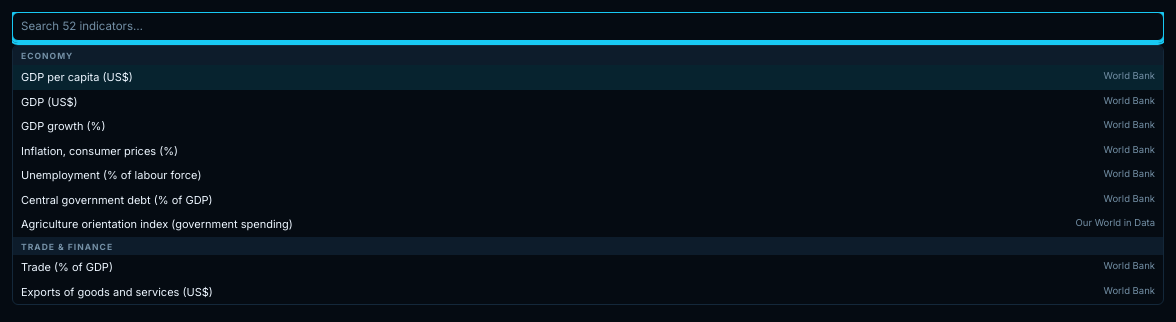
Test: IndicatorPicker › leaves out the excluded indicator and says when nothing matches
Type "qwerty" into the field at (588, 27), box [12,12,1164,41]
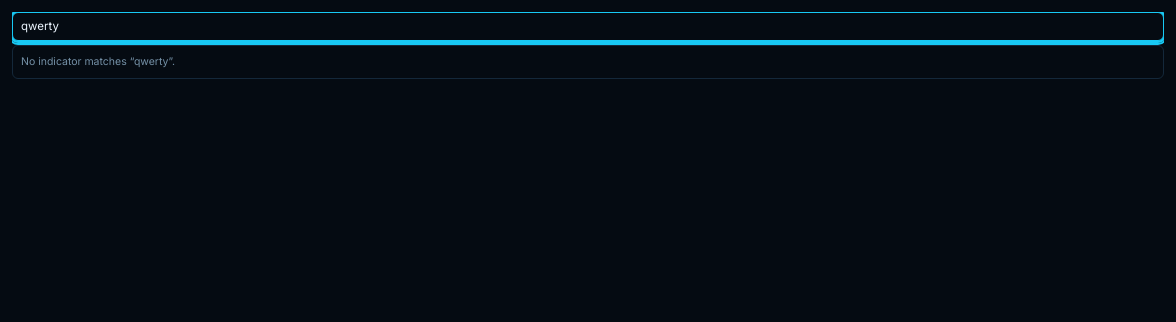
Expected: the text "No indicator matches “qwerty”." is shown, [21,55,175,68]
